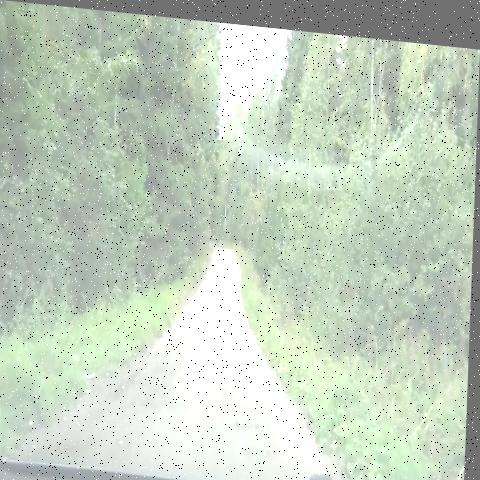pothole: (225, 410, 267, 438)
